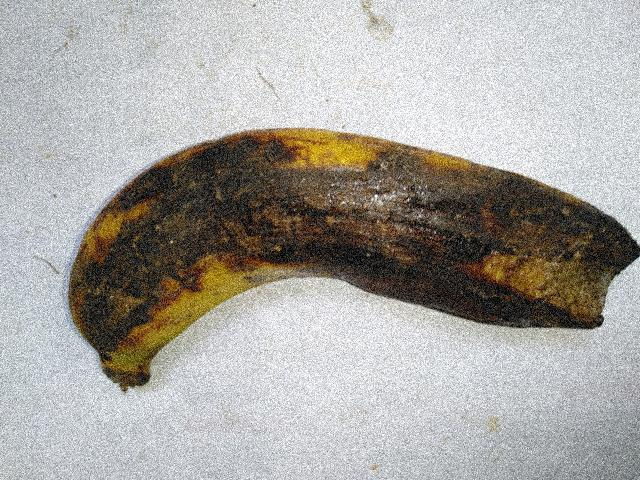rotten: (42, 100, 634, 384)
